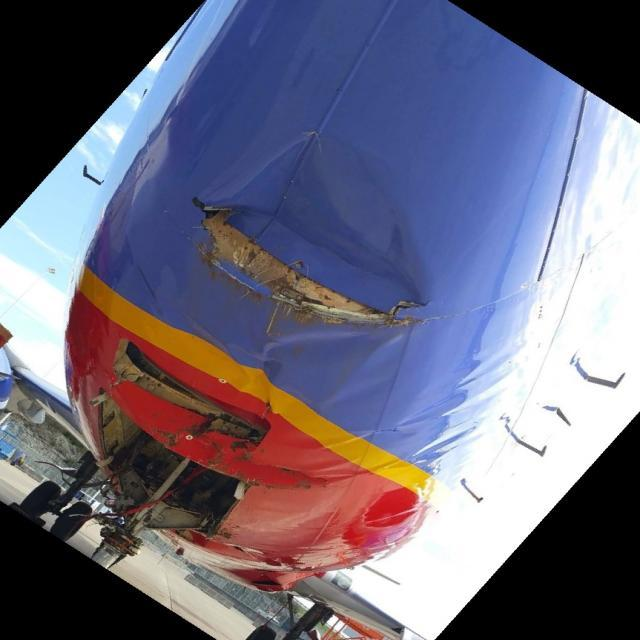crack: (388, 295, 446, 318)
dent: (214, 133, 434, 317), (262, 334, 383, 361)
